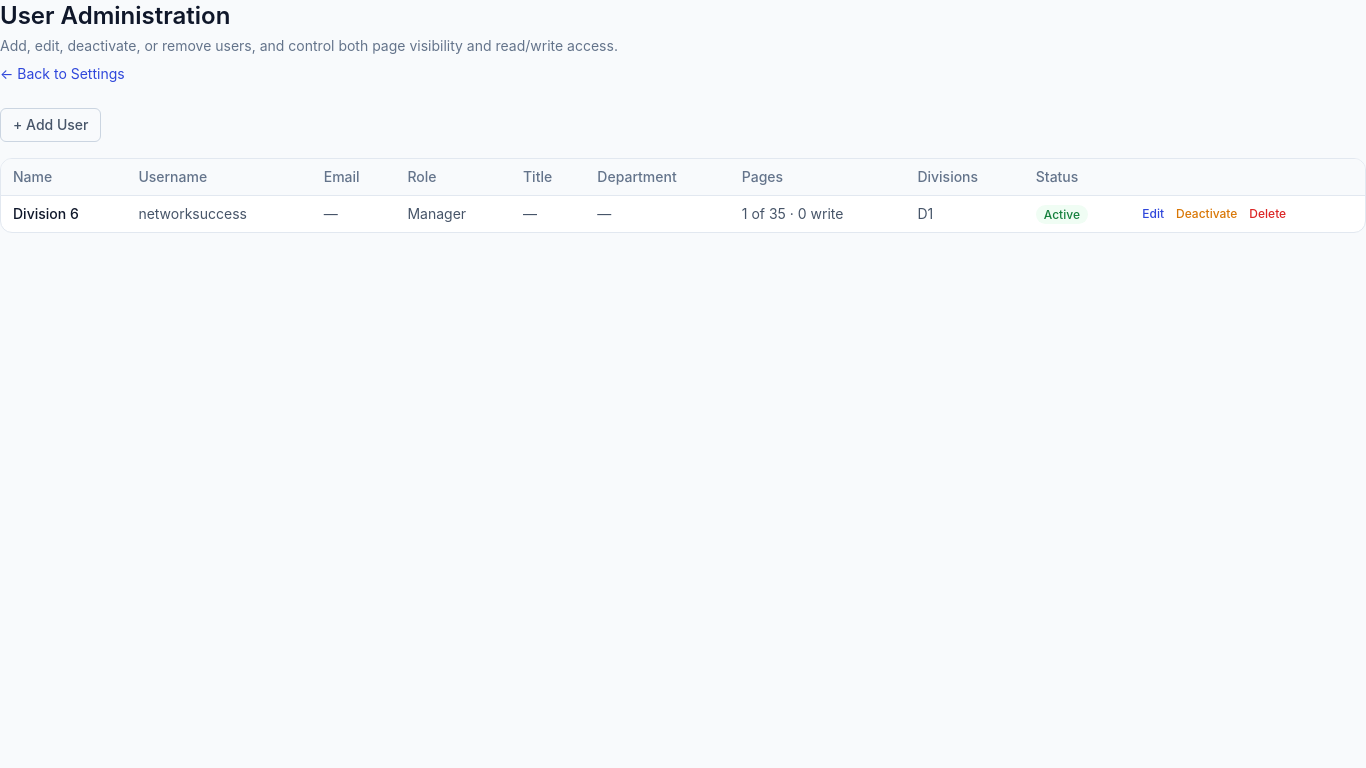
Test: user deletion uses an in-app confirmation modal
Click the button "Delete".
click(1268, 214)  # box top-left (1249, 206), bottom-right (1286, 222)
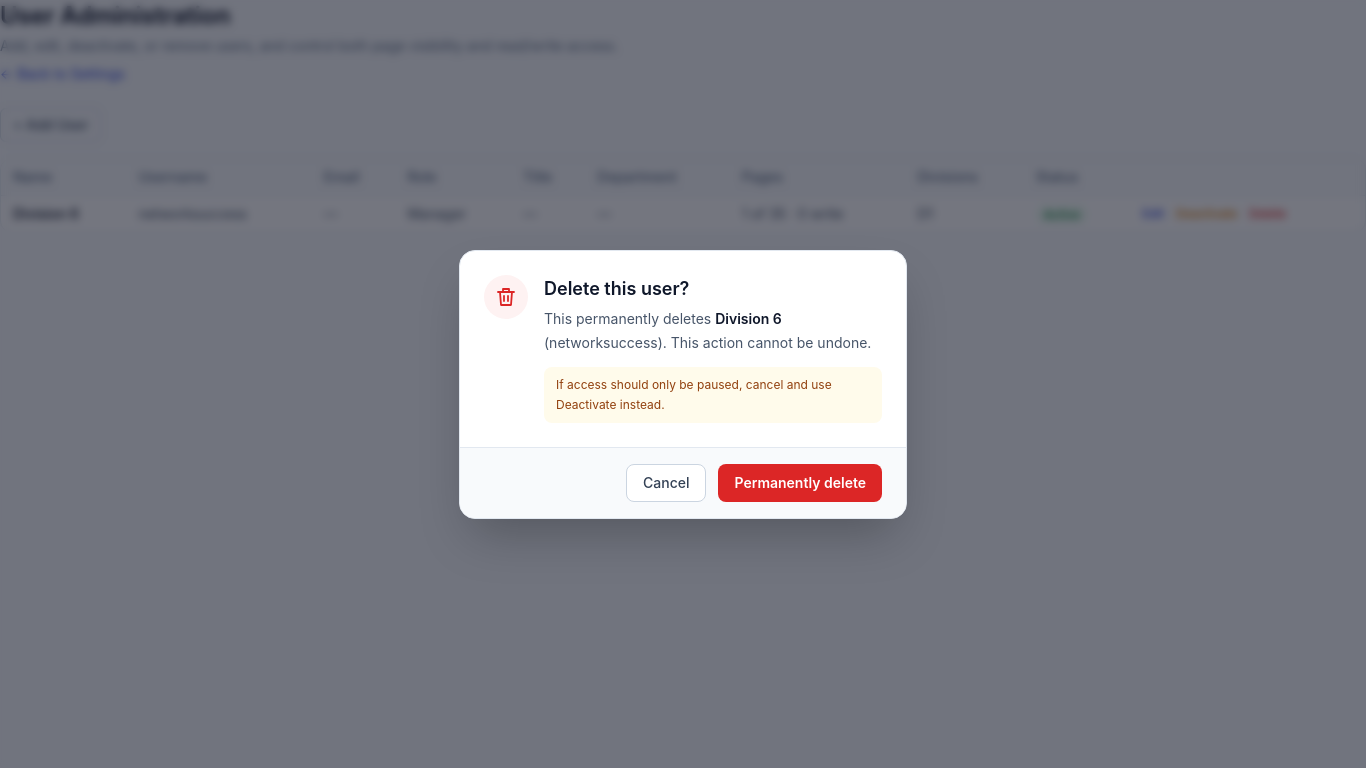
Check: the dialog "Delete this user?" is shown, box top-left (459, 250), bottom-right (907, 518)
Check: the text "Division 6" is shown, box top-left (715, 310), bottom-right (782, 326)
Click the button "Cancel".
click(666, 482)  # box top-left (626, 464), bottom-right (706, 502)
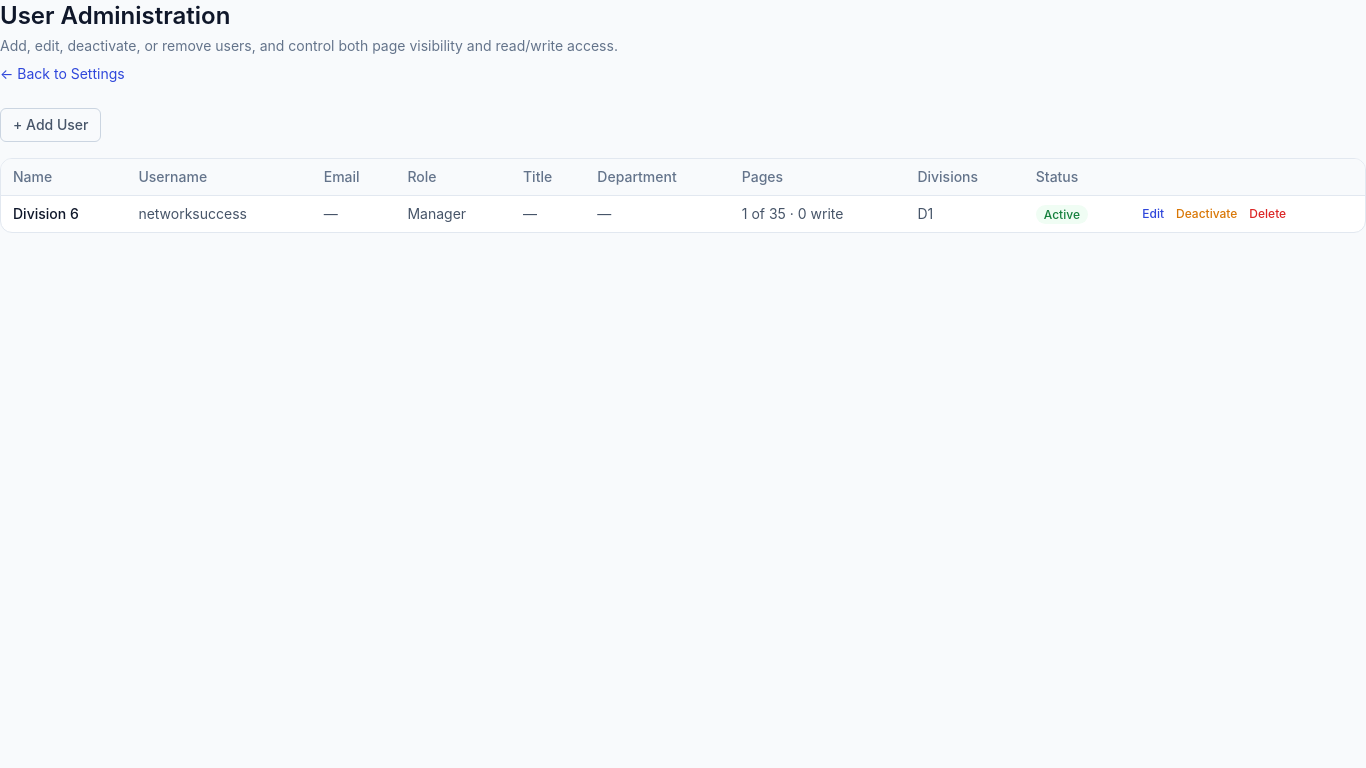
Check: the dialog is gone
Click the button "Delete".
click(1268, 214)  # box top-left (1249, 206), bottom-right (1286, 222)
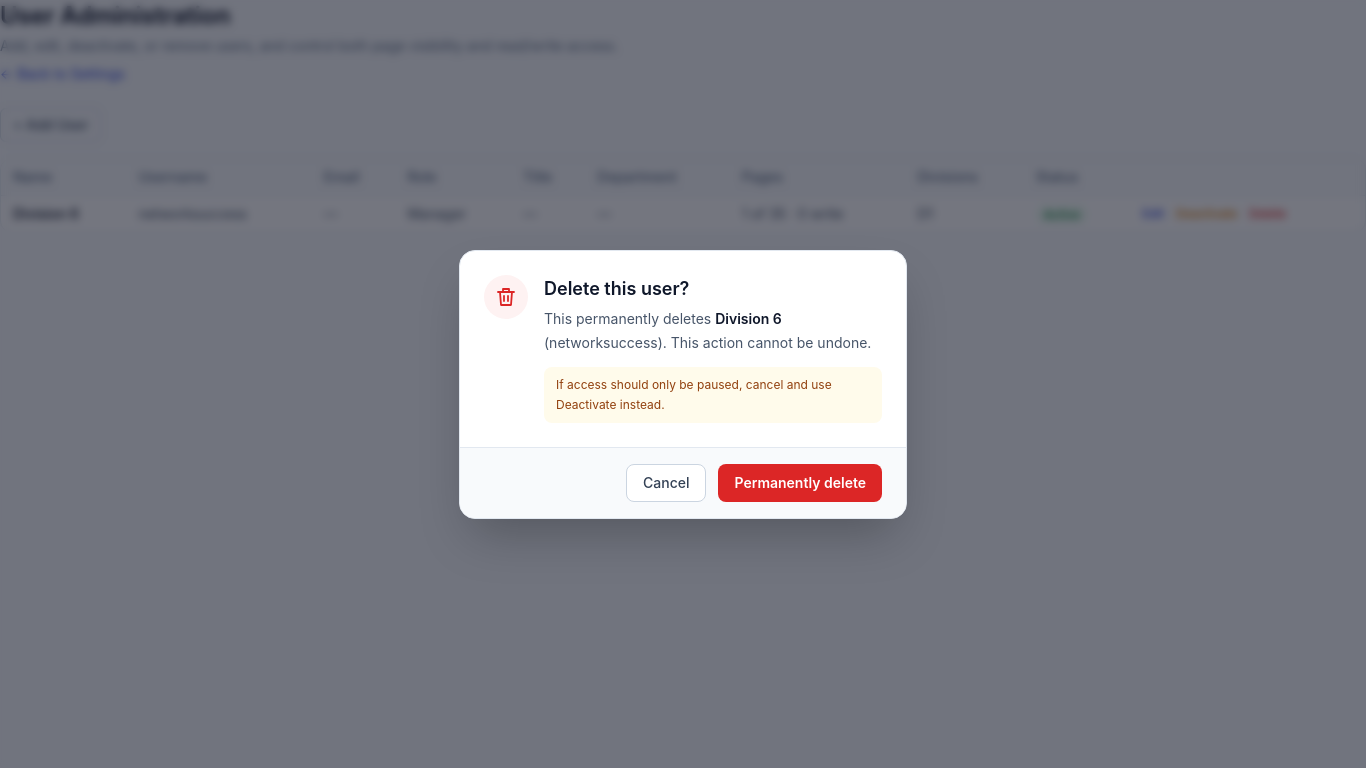
Click the button "Permanently delete".
click(800, 482)  # box top-left (718, 464), bottom-right (882, 502)
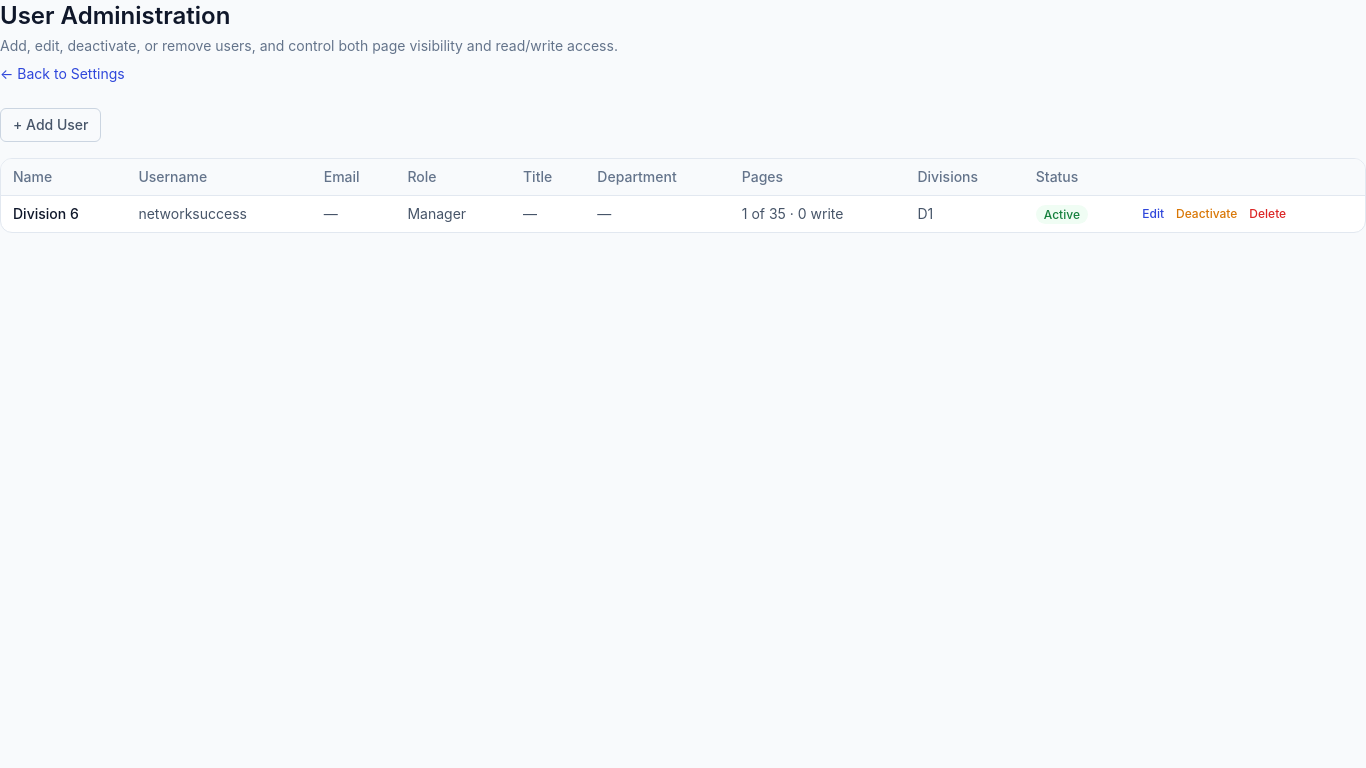
Check: the dialog is gone
